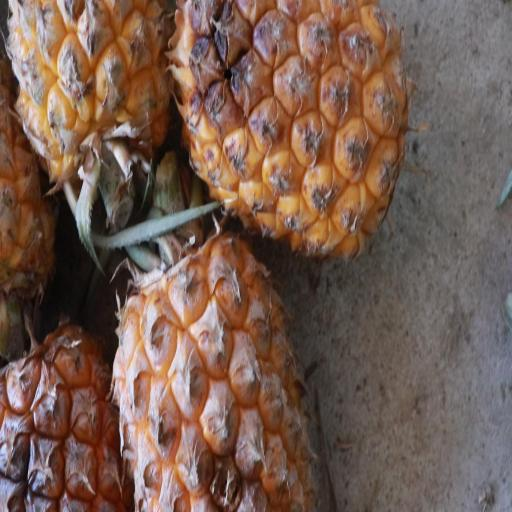Pineapple - v8 v1: (157, 0, 411, 267), (113, 211, 313, 512), (4, 0, 171, 217)
